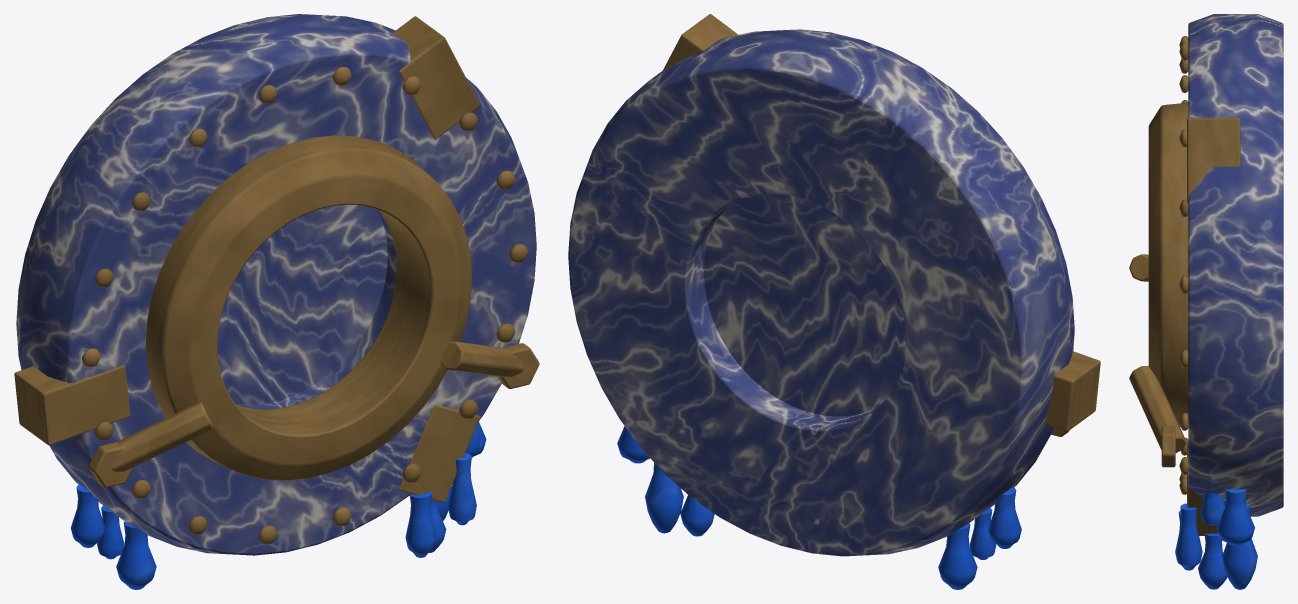
File: porthole.glb
3 renders of one model, left to right at view 1: azimuth 30°, elevation 25°; view 2: azimuth 150°, elevation 25°; view 3: azimuth 270°, elevation 25°, orthographic. The views are drawn at different scales.
Parts seen in each view (by area): view 1: porthole; view 2: porthole; view 3: porthole.
Part boxes in pixels (bbox=[...]): porthole: bbox=[14, 14, 539, 589]; porthole: bbox=[568, 14, 1100, 589]; porthole: bbox=[1129, 14, 1283, 589].
Size of the model in its own units: 0.5974 by 0.62 by 0.177.
Materials: 1 (1 with a texture image).
